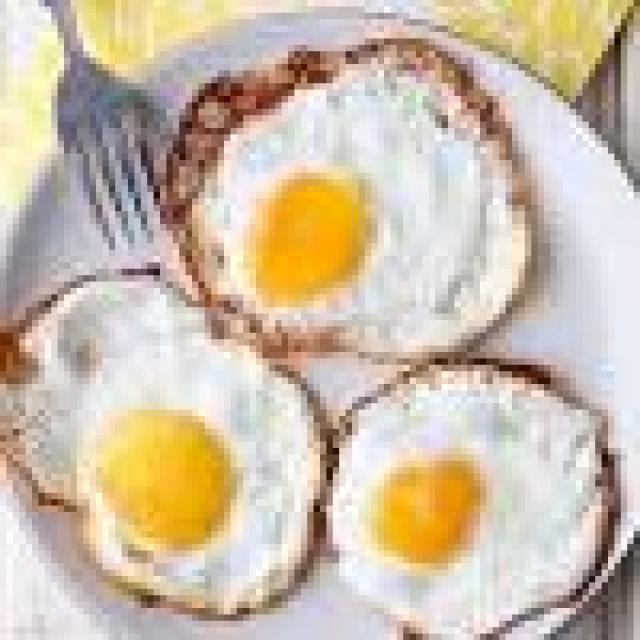Egg: (162, 40, 529, 408), (0, 276, 321, 614), (325, 365, 615, 640)
